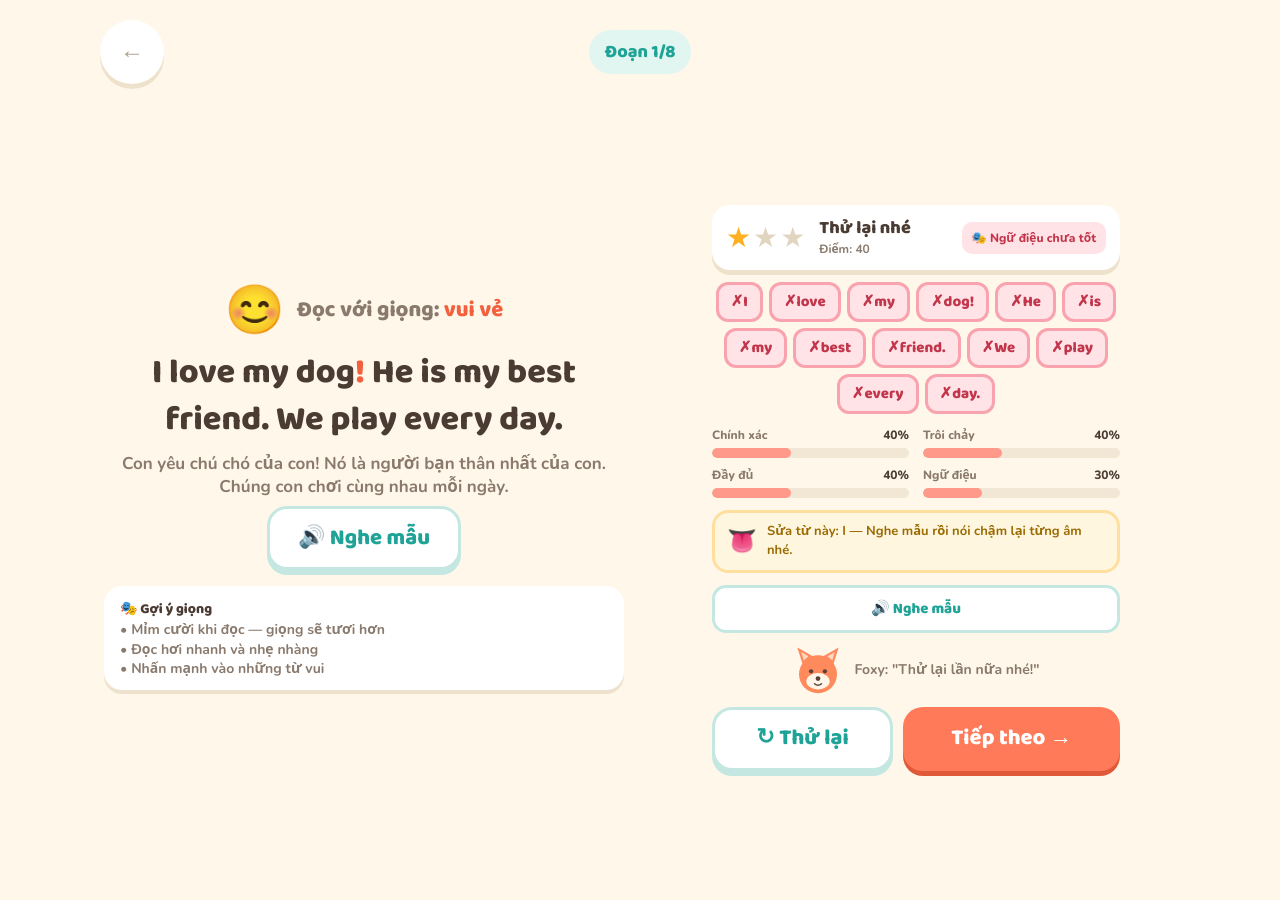
Test case: offers a hint and a retry when the attempt was weak
Expected: the number of elements with test id "star-filled" is 1, [726, 224, 753, 252]
Expected: the text "Thử lại nhé" is shown, [819, 214, 911, 242]
Click the button "↻ Thử lại". click: (803, 739)
box: [712, 707, 893, 771]
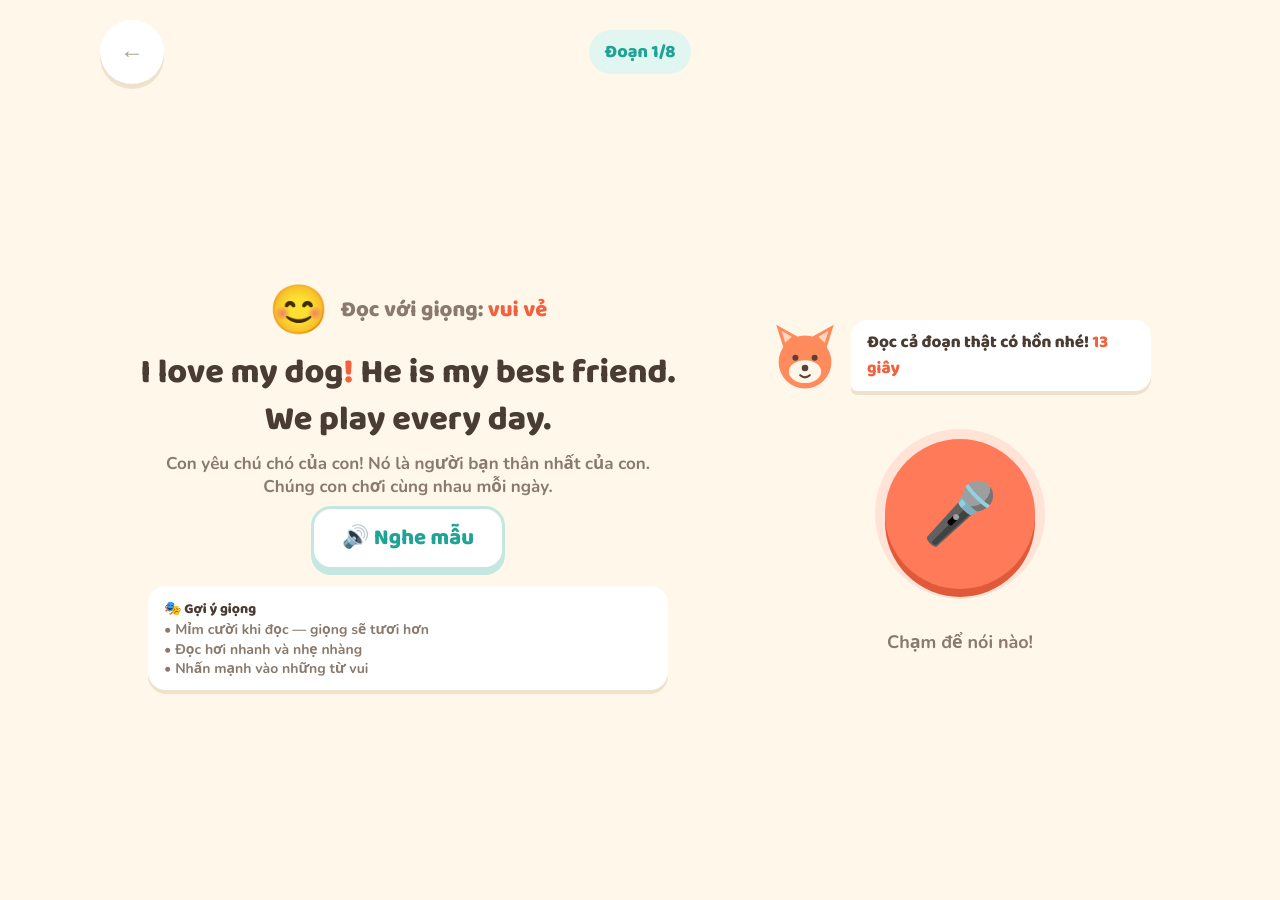
Now the button named "bấm để nói" is shown, box [885, 439, 1035, 589]
